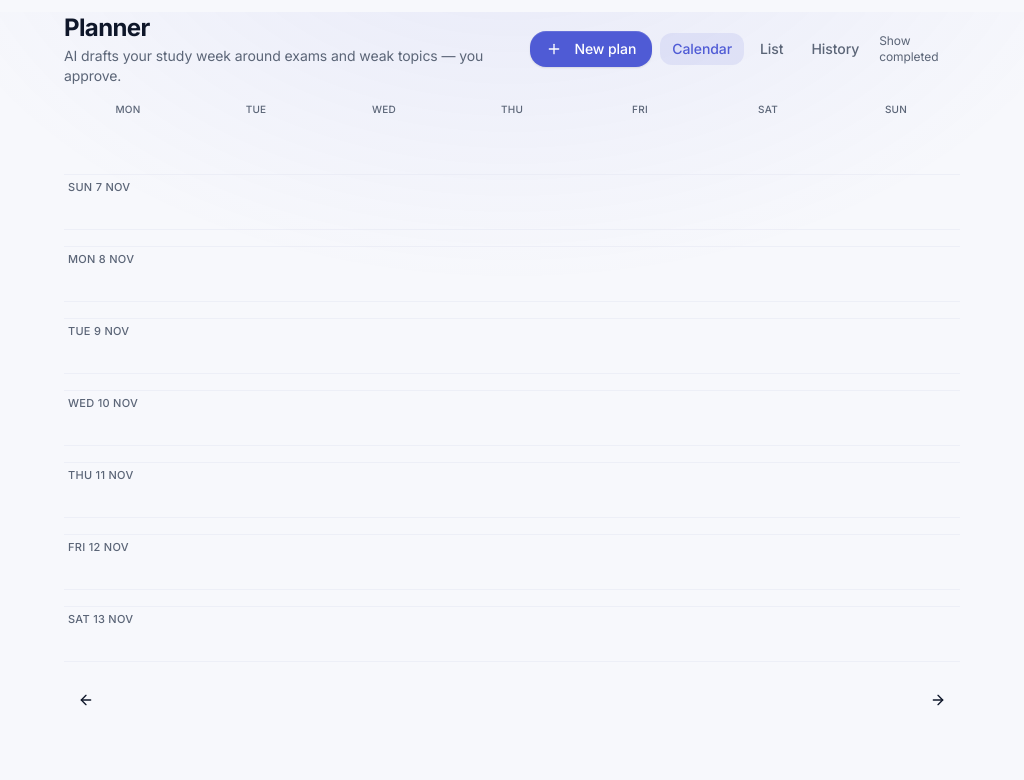
the committed-task controls › surfaces a failed toggle instead of flipping and reverting silently
Click the tab "List": x=772, y=49 x1=748 y1=33 x2=795 y2=65
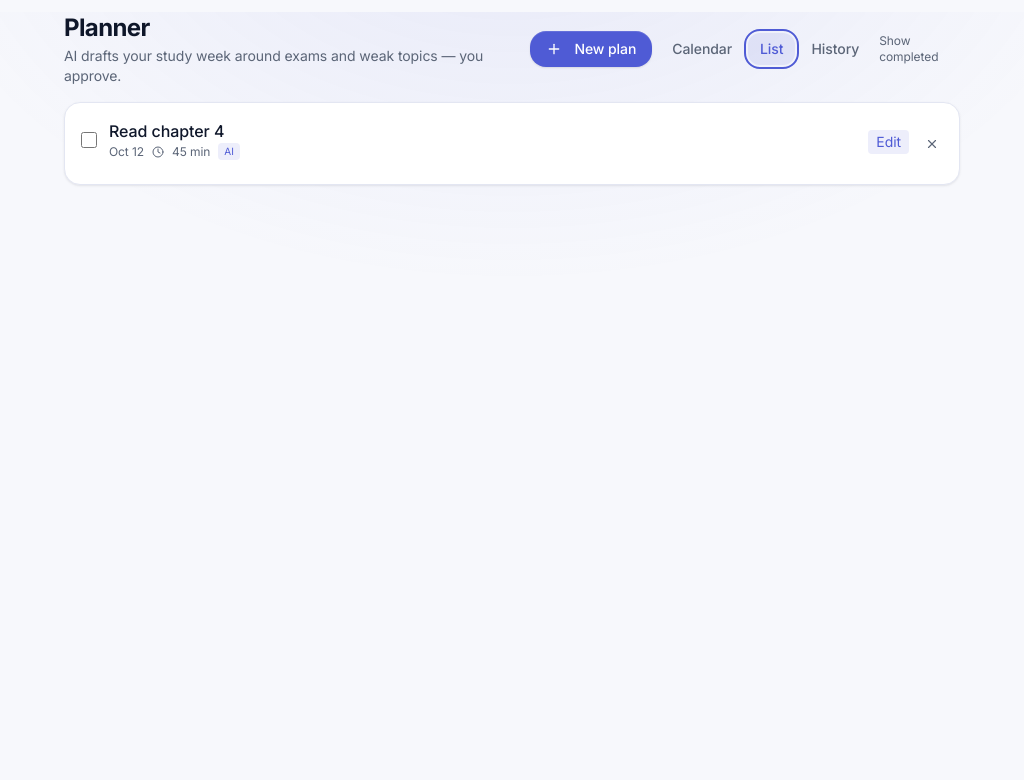
Check: the checkbox is not checked
Click the checkbox: x=89, y=140 x1=81 y1=132 x2=97 y2=148
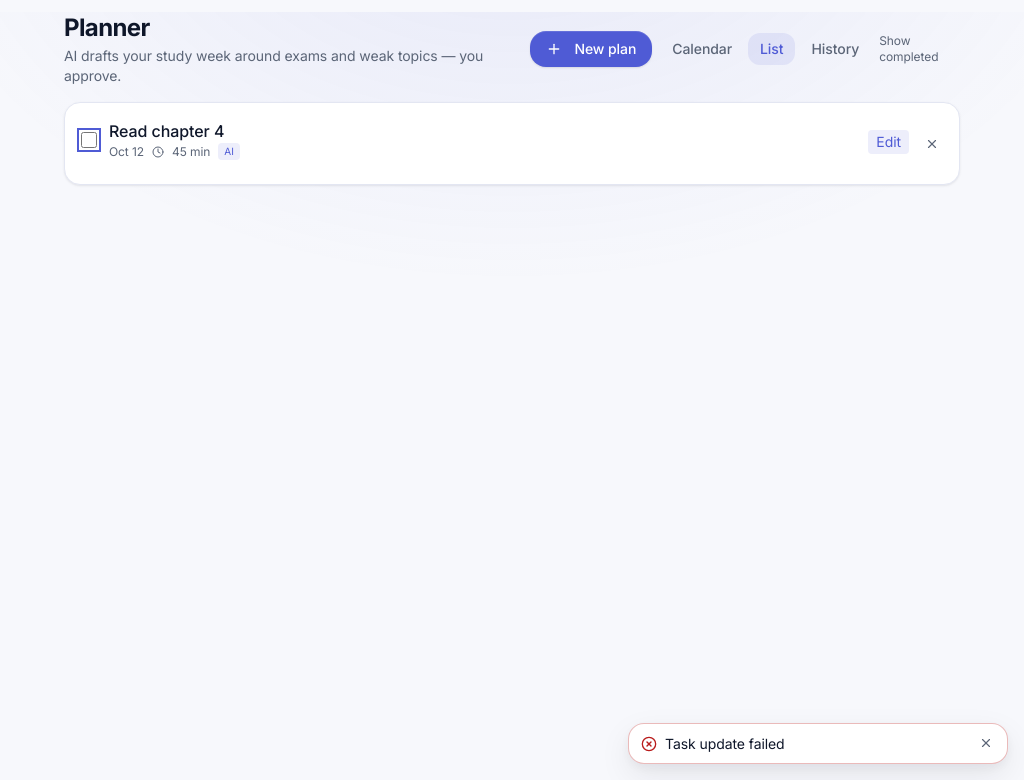
Check: the checkbox is not checked, box x1=81 y1=132 x2=97 y2=148
Check: the message reads "Task update failed", box x1=665 y1=735 x2=785 y2=752
